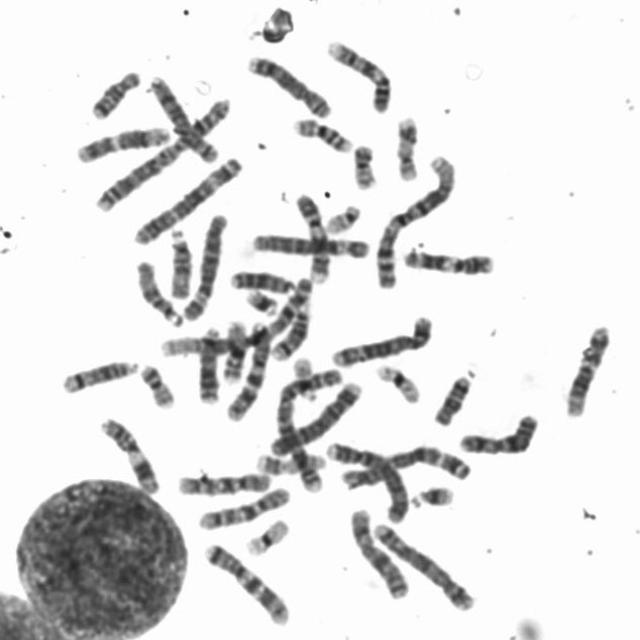A1: (156, 274, 318, 359), (372, 151, 459, 291)
A2: (91, 93, 234, 215), (276, 366, 343, 496)
A3: (130, 152, 244, 246), (336, 442, 472, 492)
B4: (266, 376, 362, 458), (322, 438, 410, 524)
B5: (369, 520, 476, 613), (328, 312, 436, 369)
C10: (193, 483, 292, 532), (172, 468, 272, 498)
C11: (96, 414, 160, 496), (400, 246, 496, 276)
C12: (560, 321, 613, 418), (72, 121, 170, 166)
C6: (179, 210, 229, 324), (246, 230, 372, 260)
C7: (199, 540, 292, 627), (219, 316, 272, 423)
C8: (145, 72, 220, 165), (244, 52, 333, 120)
C9: (323, 36, 394, 116), (291, 190, 331, 284)
D13: (194, 323, 223, 405), (227, 266, 296, 295)
D14: (56, 355, 140, 395), (268, 302, 312, 362)
D15: (132, 257, 184, 329), (165, 226, 193, 302)
E16: (290, 116, 354, 154), (219, 317, 249, 384)
E17: (252, 449, 328, 476), (392, 114, 420, 183)
E18: (87, 67, 140, 121), (430, 372, 473, 427)
F19: (371, 360, 423, 406), (241, 516, 292, 557)
F20: (136, 360, 177, 410), (348, 139, 380, 192)
G21: (407, 482, 456, 510), (242, 286, 280, 317)
G22: (321, 202, 363, 235), (290, 355, 319, 402)
X: (345, 506, 410, 601), (454, 410, 540, 457)
